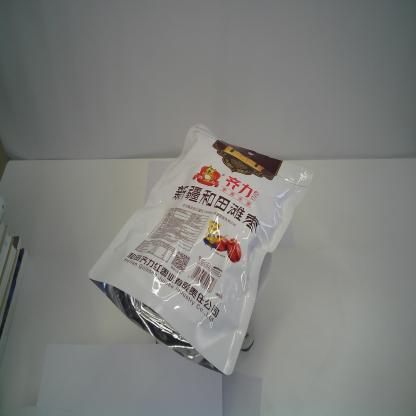Dried Food: (87, 122, 314, 379)
